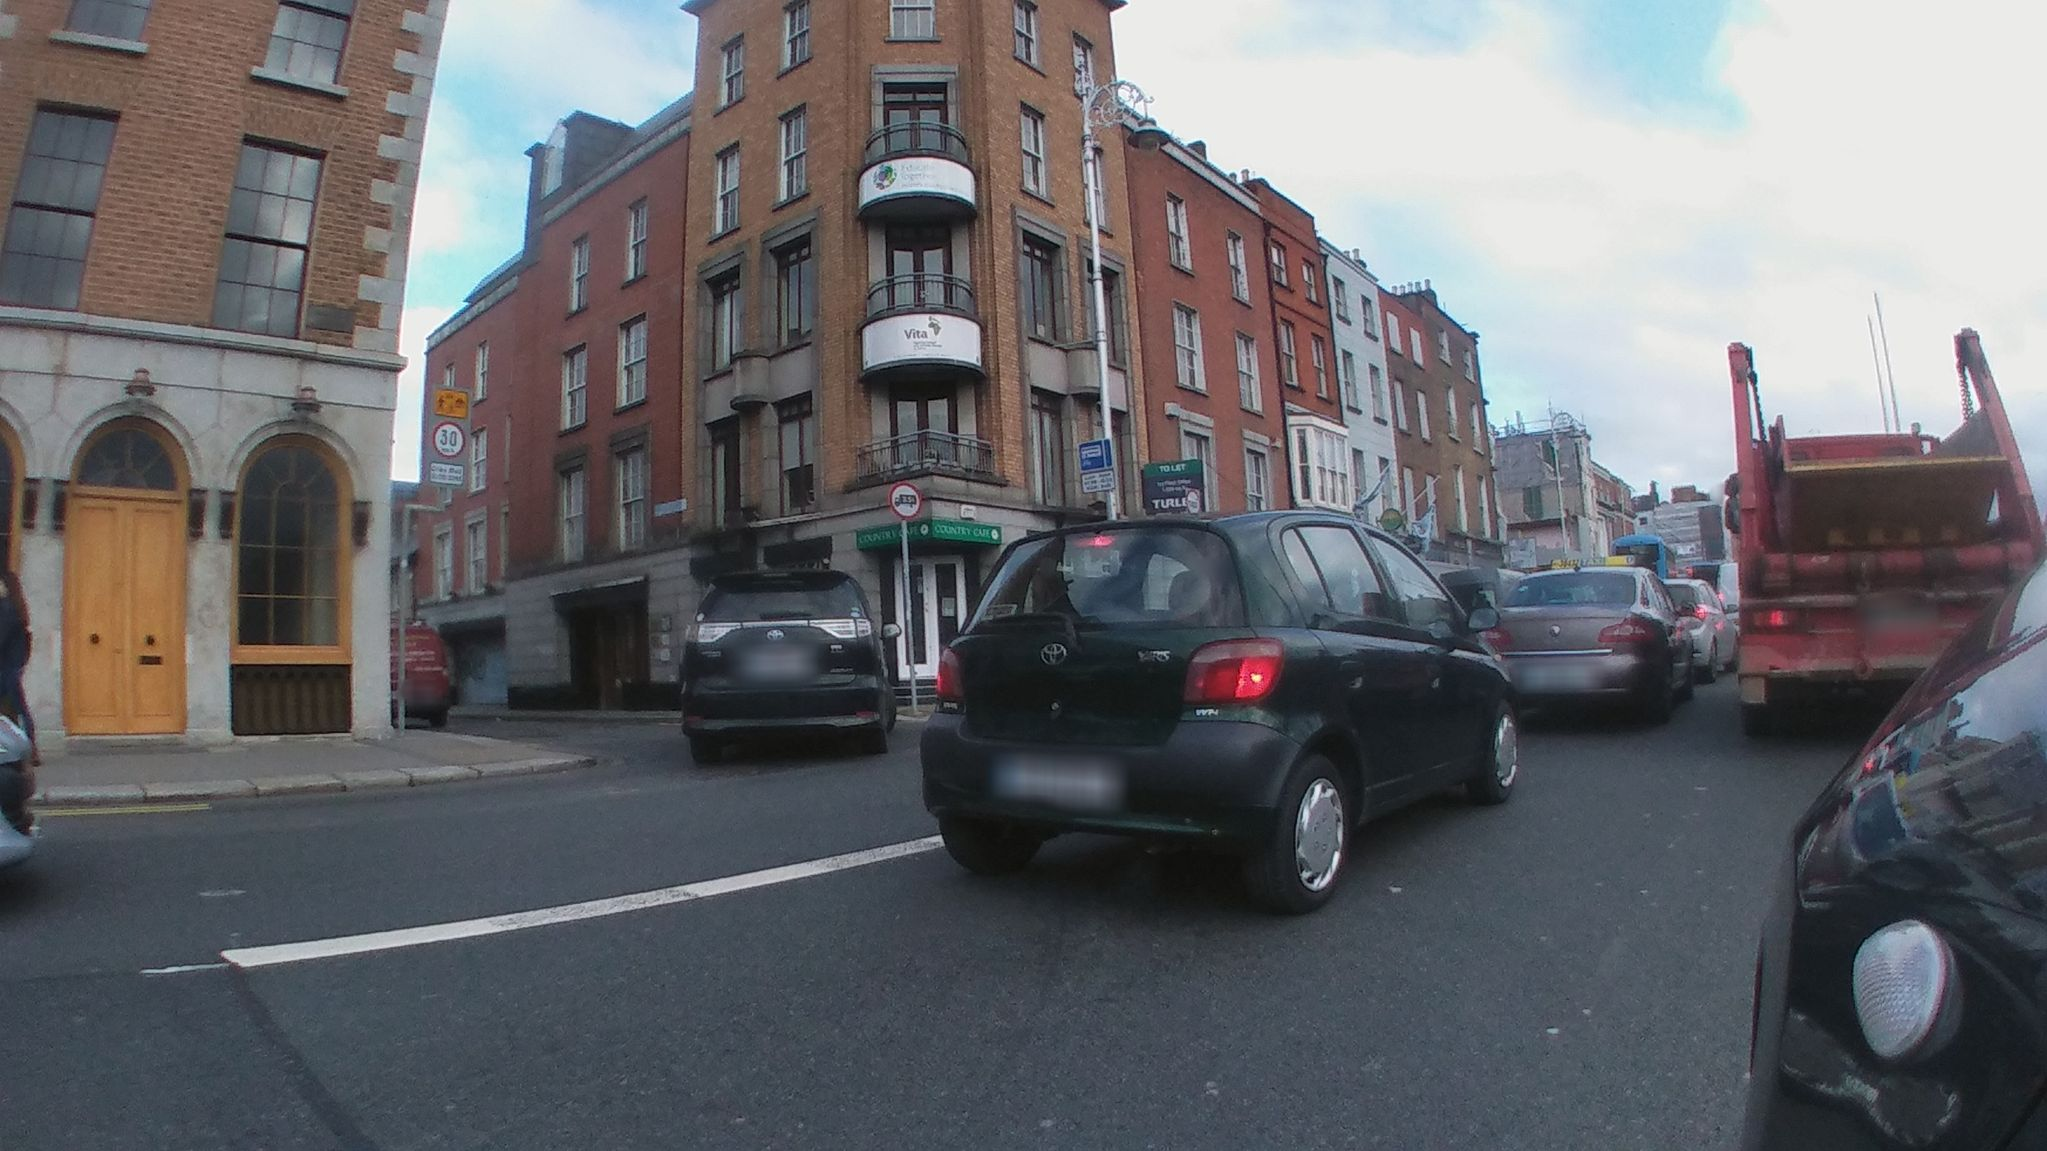property sign: (1142, 443, 1219, 521)
